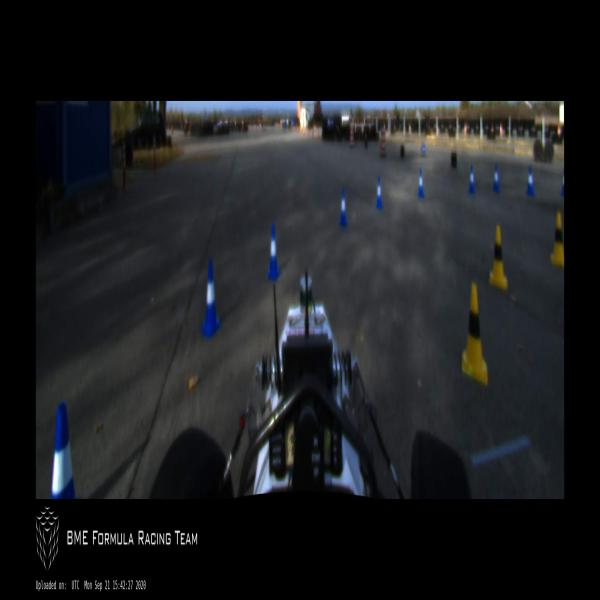blue_cone: (51, 403, 76, 498), (200, 257, 221, 339), (266, 224, 280, 278), (338, 187, 348, 225), (526, 165, 535, 196), (375, 177, 383, 208), (468, 164, 476, 194), (492, 163, 500, 192), (417, 169, 424, 197), (560, 167, 564, 198)
yellow_cone: (461, 286, 488, 381), (488, 224, 508, 292), (550, 210, 564, 270)
